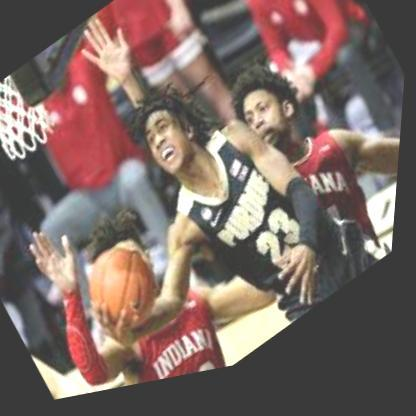basketball: (76, 232, 178, 353)
